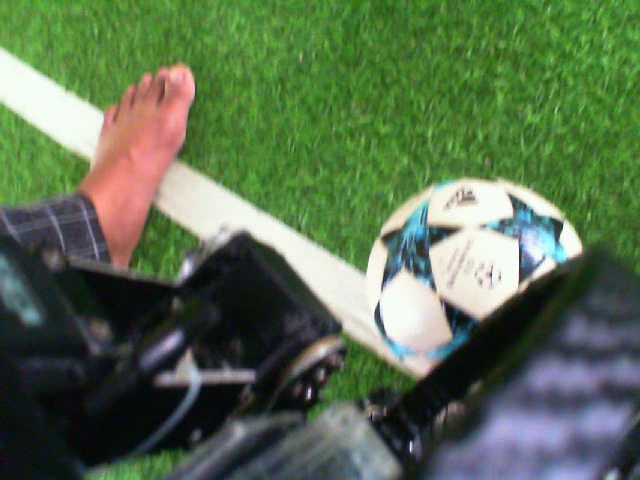ball: (363, 174, 587, 384)
